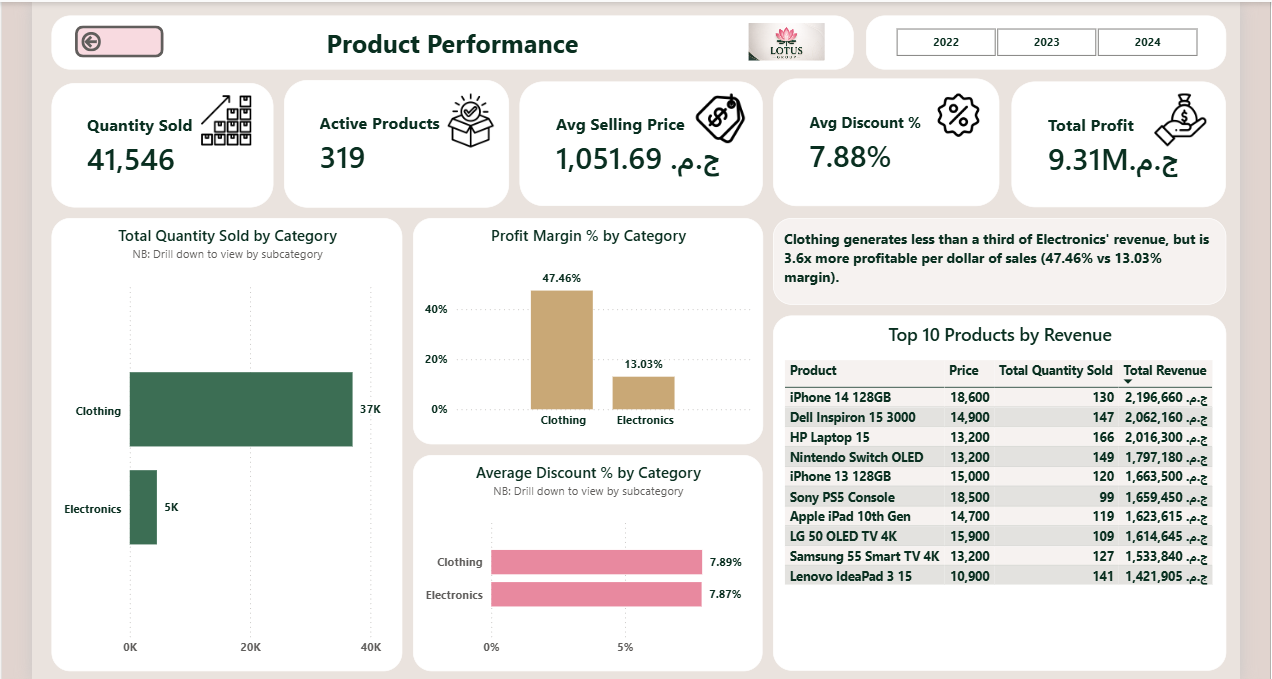

The dashboard page shown, as its layout file describes it:
{"tool":"powerbi","page":{"name":"Product Performance","canvas":[1280,720],"ordinal":3},"visuals":[{"type":"cardVisual","fields":{"Data":["_Measures.Total Active Products"]},"box":[267.2,82.7,238.6,135.2],"z":0},{"type":"cardVisual","fields":{"Data":["_Measures.Total Quantity Sold"]},"box":[20.7,85.9,235.4,132],"z":1000},{"type":"cardVisual","fields":{"Data":["_Measures.Average Discount %"]},"box":[785.8,81.1,240.2,135.2],"z":2000},{"type":"cardVisual","fields":{"Data":["_Measures.Total Profit"]},"box":[1038.7,84.3,227.5,133.6],"z":3000},{"type":"clusteredBarChart","fields":{"Category":["dim_products.category","dim_products.subcategory"],"Y":["_Measures.Total Quantity Sold"]},"box":[20.7,229,372.2,480.4],"z":4000},{"type":"cardVisual","fields":{"Data":["_Measures.Average Selling Price"]},"box":[516.9,84.3,257.7,132],"z":5000},{"type":"tableEx","title":"Top 10 Products by Revenue","fields":{"Values":["dim_products.product_name","dim_products.unit_price","_Measures.Total Quantity Sold","_Measures.Total Revenue"]},"box":[785.8,332.4,480.4,377],"z":6000},{"type":"slicer","fields":{"Values":["dim_date.year"]},"box":[884.4,14.3,381.7,57.3],"z":7000},{"type":"clusteredBarChart","fields":{"Category":["dim_products.category","dim_products.subcategory"],"Y":["_Measures.Average Discount %"]},"box":[404,480.4,370.6,229],"z":8000},{"type":"clusteredColumnChart","title":"Profit Margin % by Category","fields":{"Category":["dim_products.category"],"Y":["_Measures.Profit Margin %"]},"box":[404,229,371,240.2],"z":9000},{"type":"shape","box":[20.7,14.3,851,57.3],"z":10000},{"type":"actionButton","box":[42.9,22.3,100,40],"z":11000},{"type":"textbox","box":[785.8,229,480.4,92.3],"z":12000},{"type":"image","box":[1186.6,97,62,55.7],"z":13000},{"type":"image","box":[175,97,62,57.3],"z":14000},{"type":"image","box":[698.3,97,63.6,52.5],"z":15000},{"type":"image","box":[435.8,97,58.9,57.3],"z":16000},{"type":"image","box":[952.8,97,58.9,46.1],"z":17000},{"type":"image","box":[741.2,22.3,117.7,39.8],"z":18000}]}

Visuals, with their boxes on the page's 1280x720 design canvas (x1, y1, x2, y2). These are canvas units, not pixel positions in the 1272x679 screenshot, which may show the page scaled, cropped or inside an application window:
cardVisual - _Measures.Total Active Products: [x1=267, y1=83, x2=506, y2=218]
cardVisual - _Measures.Total Quantity Sold: [x1=21, y1=86, x2=256, y2=218]
cardVisual - _Measures.Average Discount %: [x1=786, y1=81, x2=1026, y2=216]
cardVisual - _Measures.Total Profit: [x1=1039, y1=84, x2=1266, y2=218]
clusteredBarChart - dim_products.category x dim_products.subcategory: [x1=21, y1=229, x2=393, y2=709]
cardVisual - _Measures.Average Selling Price: [x1=517, y1=84, x2=775, y2=216]
"Top 10 Products by Revenue" tableEx: [x1=786, y1=332, x2=1266, y2=709]
slicer - dim_date.year: [x1=884, y1=14, x2=1266, y2=72]
clusteredBarChart - dim_products.category x dim_products.subcategory: [x1=404, y1=480, x2=775, y2=709]
"Profit Margin % by Category" clusteredColumnChart: [x1=404, y1=229, x2=775, y2=469]
shape: [x1=21, y1=14, x2=872, y2=72]
actionButton: [x1=43, y1=22, x2=143, y2=62]
textbox: [x1=786, y1=229, x2=1266, y2=321]
image: [x1=1187, y1=97, x2=1249, y2=153]
image: [x1=175, y1=97, x2=237, y2=154]
image: [x1=698, y1=97, x2=762, y2=150]
image: [x1=436, y1=97, x2=495, y2=154]
image: [x1=953, y1=97, x2=1012, y2=143]
image: [x1=741, y1=22, x2=859, y2=62]
